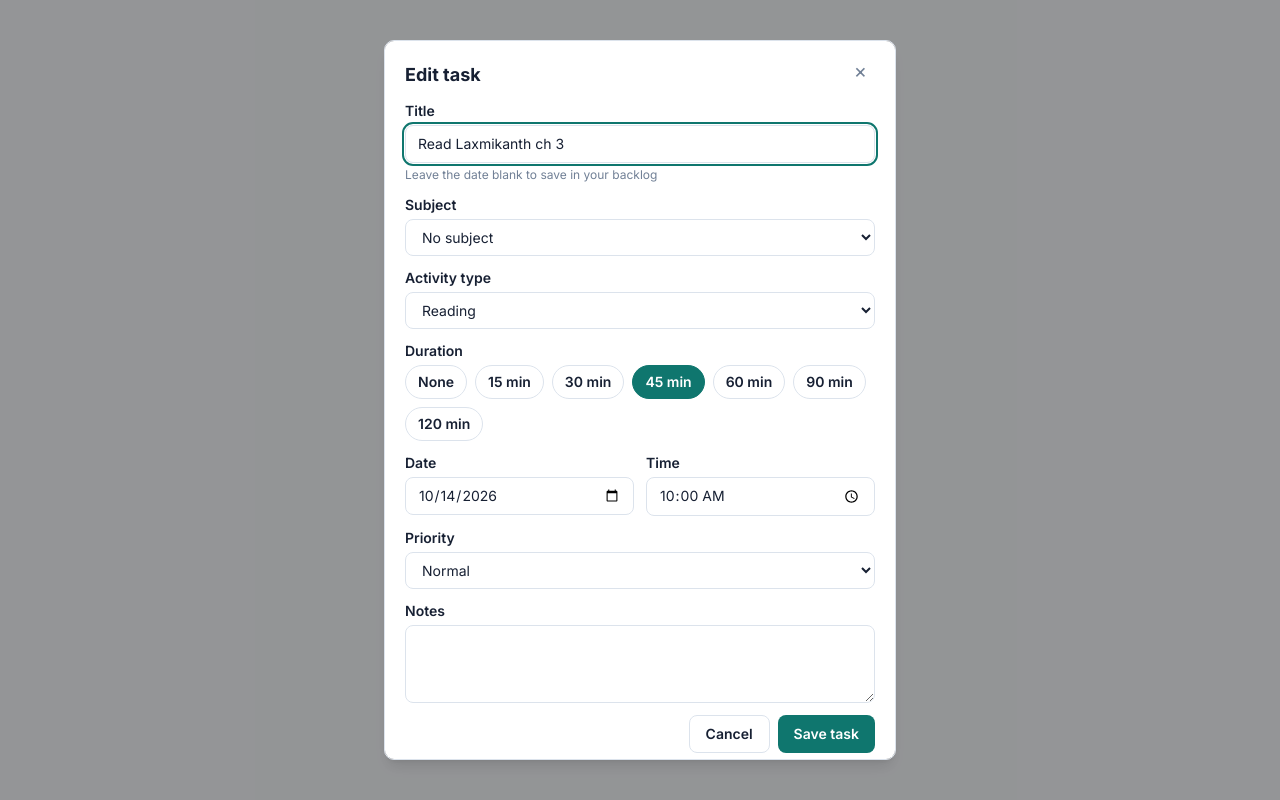
Test: TaskDialog › edit sends only changed fields and stays open with an error when save fails
Replace the text in the field labelled "Title" with "New title": (640, 144) [405,125,875,163]
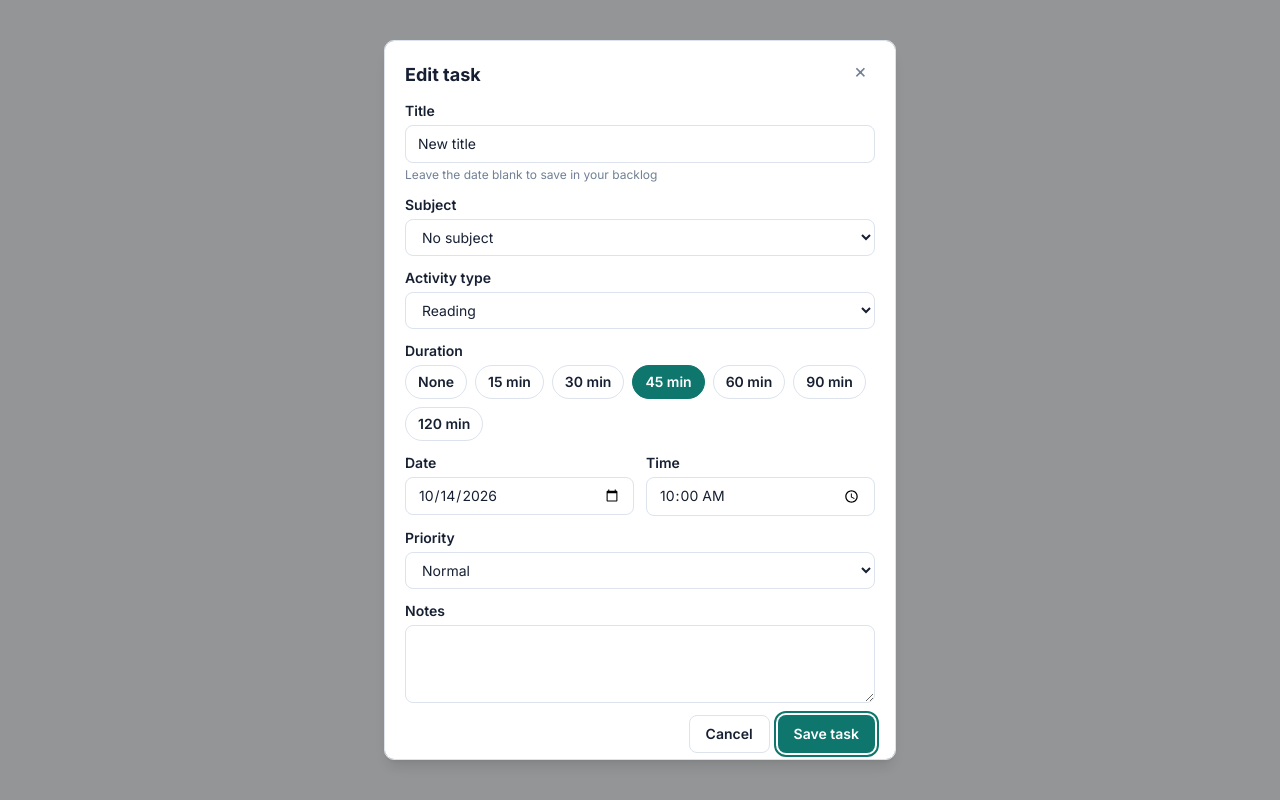
Click the button "Save task": (826, 734) [778,715,875,753]
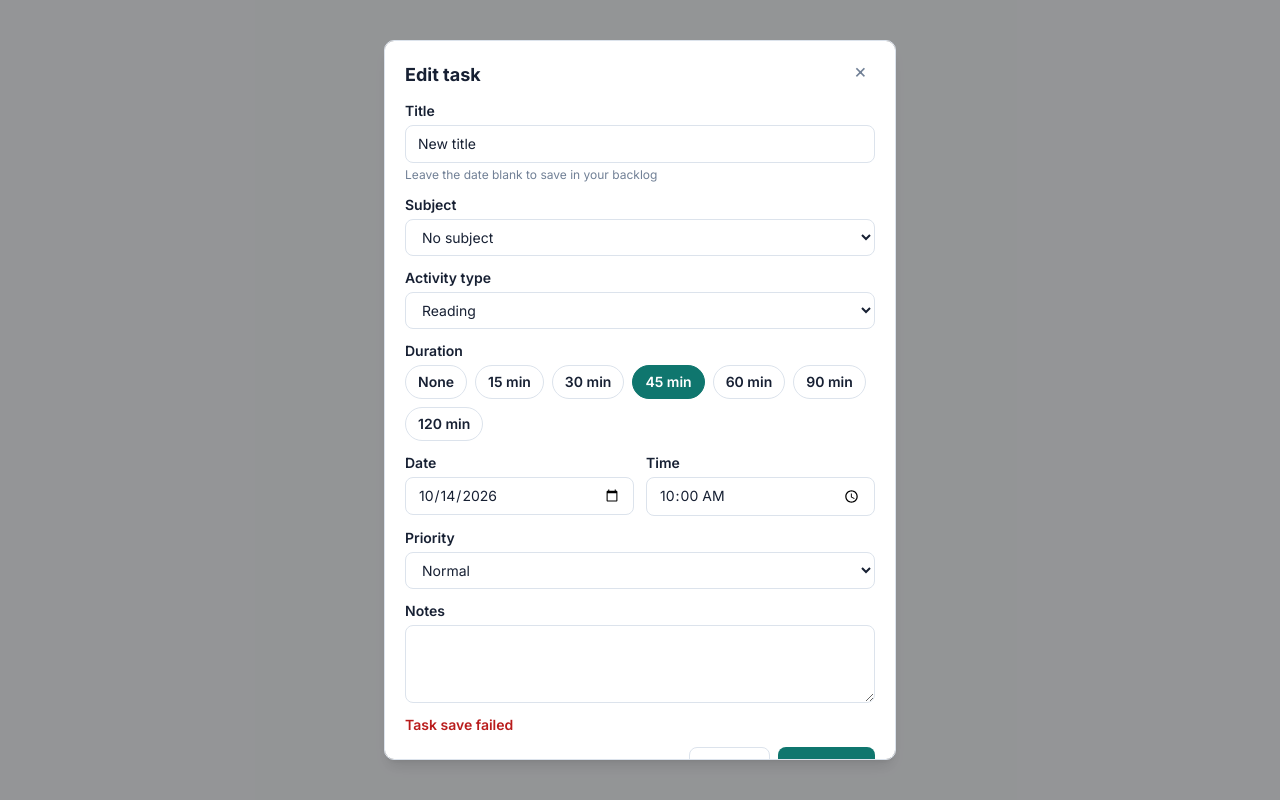
Now the text "Task save failed" is shown, box [405,716,513,733]
